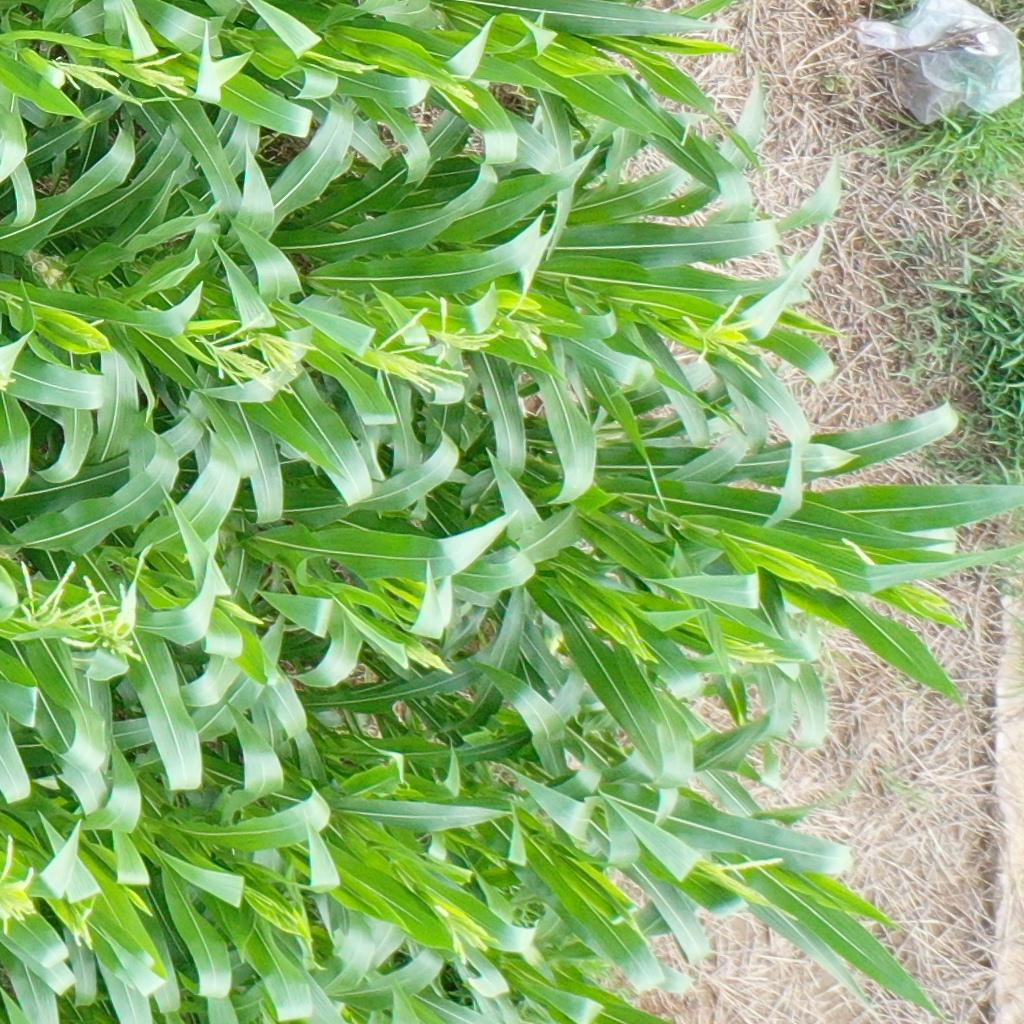Tassel: (365, 304, 472, 395), (193, 306, 294, 395), (678, 290, 768, 381), (13, 559, 110, 639), (69, 572, 148, 666), (699, 849, 793, 915), (426, 889, 496, 971), (428, 294, 507, 363), (45, 52, 136, 104), (497, 282, 552, 361), (1, 831, 39, 933), (132, 45, 200, 101), (424, 61, 483, 121), (245, 325, 313, 375), (721, 632, 784, 671), (68, 312, 114, 355), (75, 899, 104, 955), (333, 50, 381, 78)
